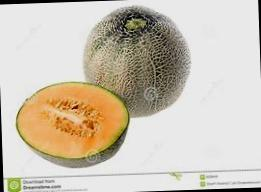Melon Ripe: (80, 3, 192, 119), (15, 79, 130, 170)
